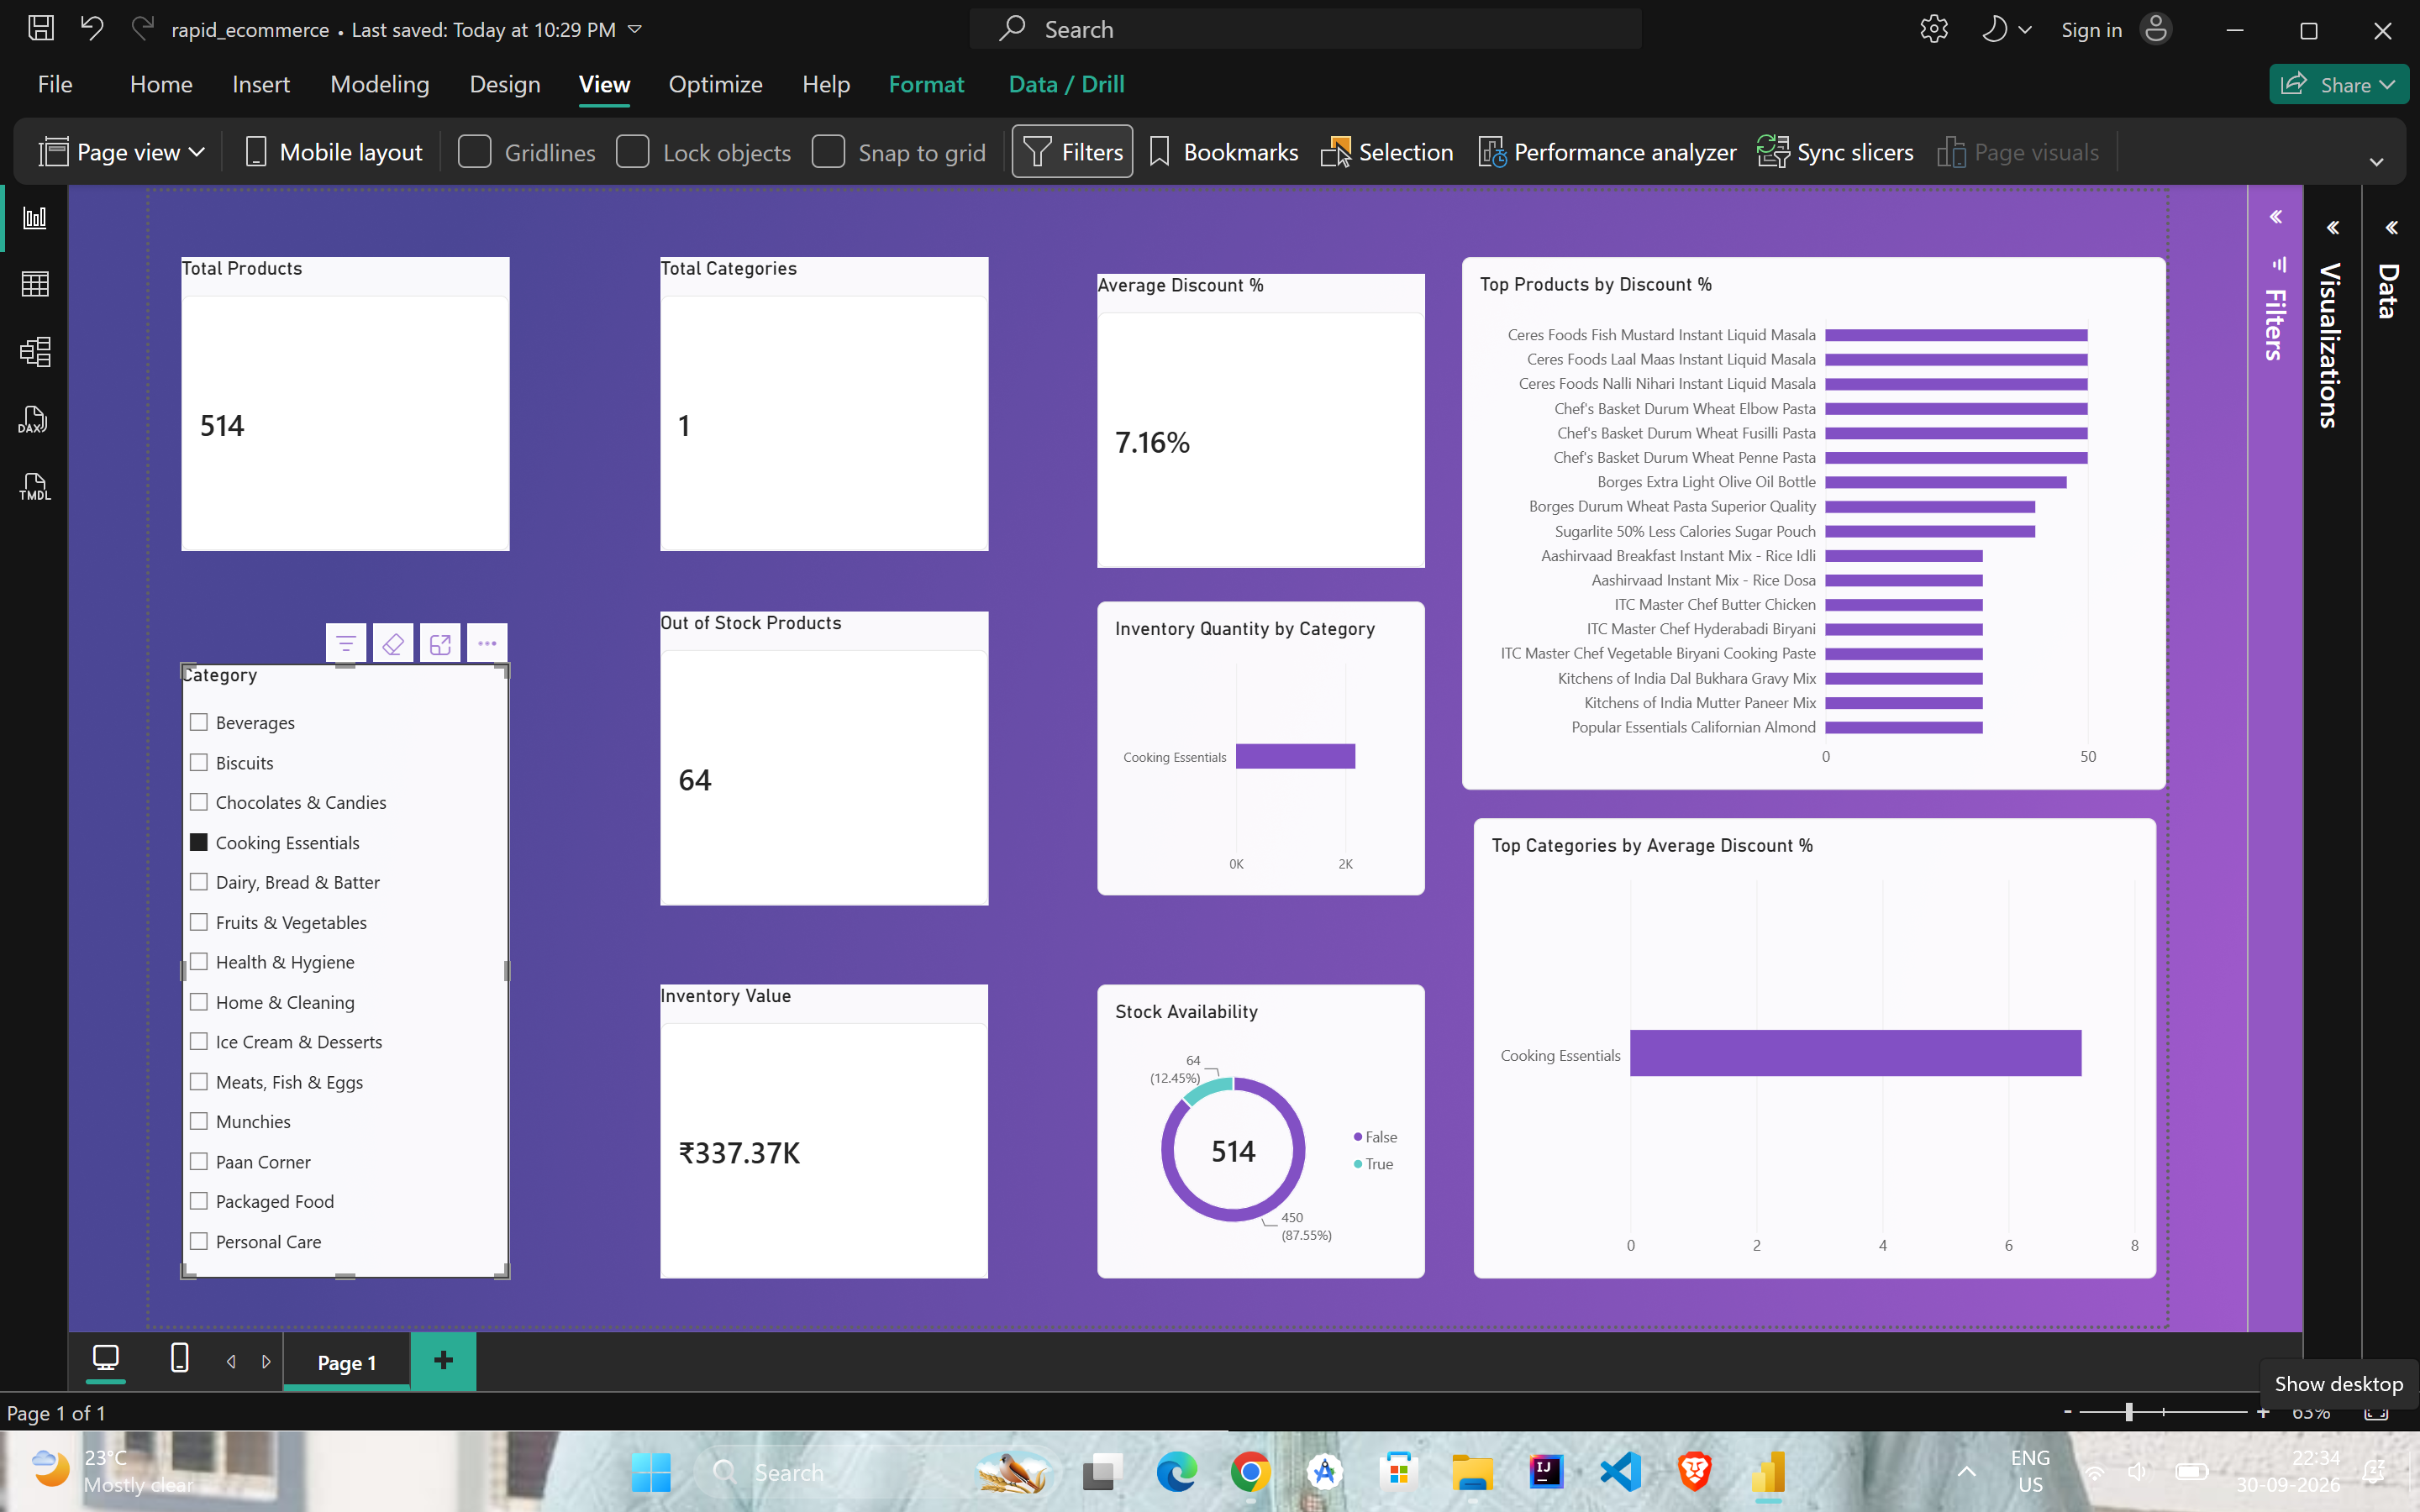

What the dashboard file says about the page in this screenshot:
{"tool":"powerbi","page":{"name":"Page 1","canvas":[1920,1080],"ordinal":0},"visuals":[{"type":"cardVisual","title":"Total Products","fields":{"Data":["CountNonNull(public zepto.sku_id)"]},"box":[29.9,62,312.3,280.2],"z":0},{"type":"cardVisual","title":"Total Categories","fields":{"Data":["public zepto.Total Categories"]},"box":[486.9,62,312.3,280.2],"z":1000},{"type":"cardVisual","title":"Average Discount %","fields":{"Data":["public zepto.Average Discount %"]},"box":[902.6,78.1,312,280],"z":2000},{"type":"cardVisual","title":"Out of Stock Products","fields":{"Data":["public zepto.Out of Stock Products"]},"box":[486.9,399.6,312.3,280.2],"z":3000},{"type":"clusteredBarChart","title":"Inventory Quantity by Category","fields":{"Category":["public zepto.category"],"Y":["Sum(public zepto.availablequantity)"]},"box":[902.6,390.4,312,280],"z":4000},{"type":"donutChart","title":"Stock Availability","fields":{"Category":["public zepto.outofstock"],"Y":["CountNonNull(public zepto.sku_id)"]},"box":[902.6,755.6,312,280],"z":5000},{"type":"clusteredBarChart","title":"Top Products by Discount %","fields":{"Category":["public zepto.name"],"Y":["Avg(public zepto.discountpercent)"]},"box":[1249.4,62,670.6,507.6],"z":6000},{"type":"clusteredBarChart","title":"Top Categories by Average Discount %","fields":{"Category":["public zepto.category"],"Y":["Avg(public zepto.discountpercent)"]},"box":[1260.9,597.1,650,438.7],"z":7000},{"type":"cardVisual","title":"Inventory Value","fields":{"Data":["public zepto.Inventory Value"]},"box":[486.9,755.6,312,280],"z":7001},{"type":"slicer","title":"Category","fields":{"Values":["public zepto.category"]},"box":[29.9,450.1,312.3,585.6],"z":7002}]}

Visuals, with their boxes on the page's 1920x1080 design canvas (x1, y1, x2, y2). These are canvas units, not pixel positions in the 2420x1512 screenshot, which may show the page scaled, cropped or inside an application window:
"Total Products" cardVisual: bbox=[30, 62, 342, 342]
"Total Categories" cardVisual: bbox=[487, 62, 799, 342]
"Average Discount %" cardVisual: bbox=[903, 78, 1215, 358]
"Out of Stock Products" cardVisual: bbox=[487, 400, 799, 680]
"Inventory Quantity by Category" clusteredBarChart: bbox=[903, 390, 1215, 670]
"Stock Availability" donutChart: bbox=[903, 756, 1215, 1036]
"Top Products by Discount %" clusteredBarChart: bbox=[1249, 62, 1920, 570]
"Top Categories by Average Discount %" clusteredBarChart: bbox=[1261, 597, 1911, 1036]
"Inventory Value" cardVisual: bbox=[487, 756, 799, 1036]
"Category" slicer: bbox=[30, 450, 342, 1036]
